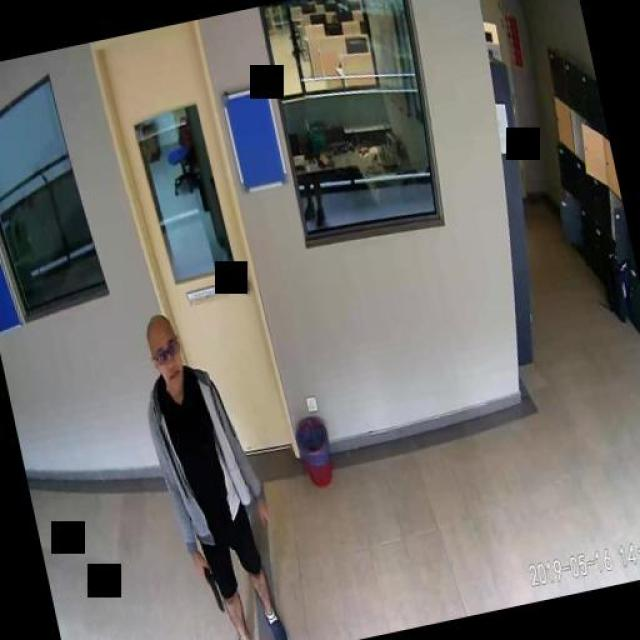gun: (196, 556, 222, 612)
